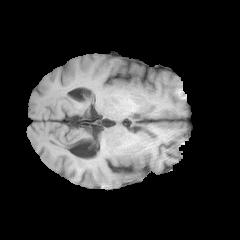glioma: (76, 136, 157, 180)
